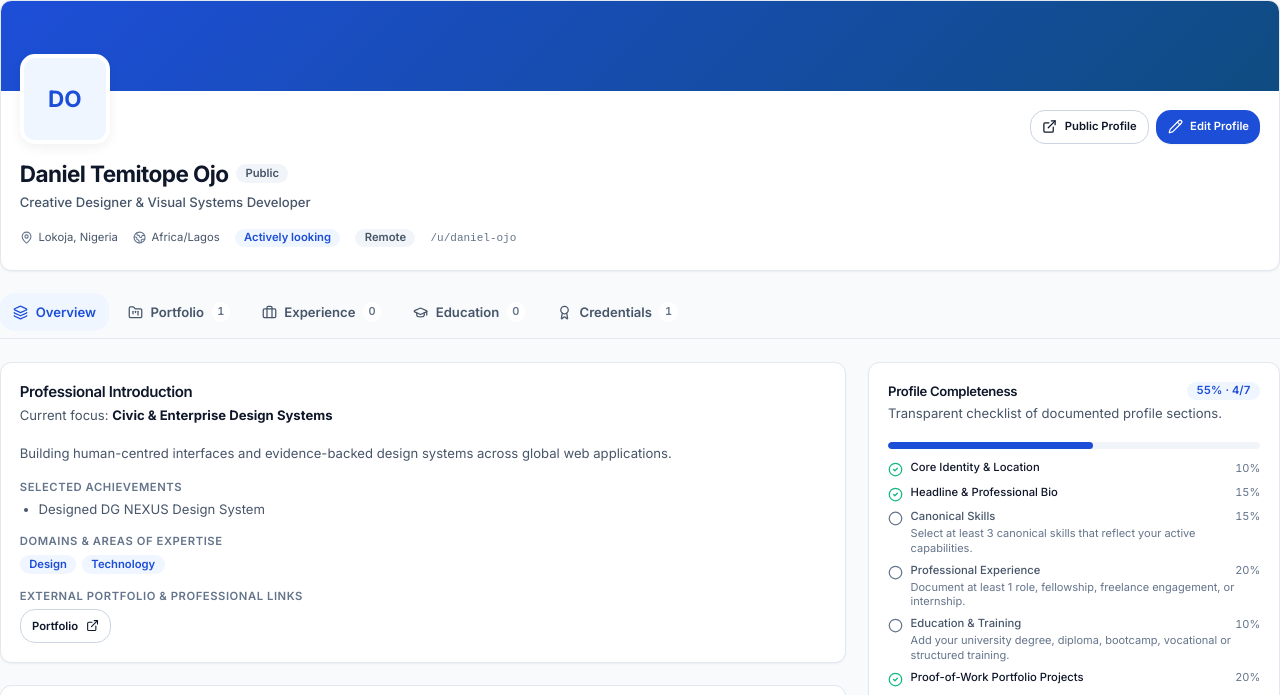
Scenario: M2 Proof-of-Work Profile & Portfolio Workspace UI › distinguishes portfolio-supported from self-reported skills and enforces transparent completeness & credential status
The width and height of the screenshot is (1280, 695).
Expected: the heading "Daniel Temitope Ojo" is shown, [20,158,229,188]
Note: Switch to Credentials tab and verify honest verification integrity guidance
Step 1. Click the tab "Credentials 1" → (617, 312), box [544,293,691,331]
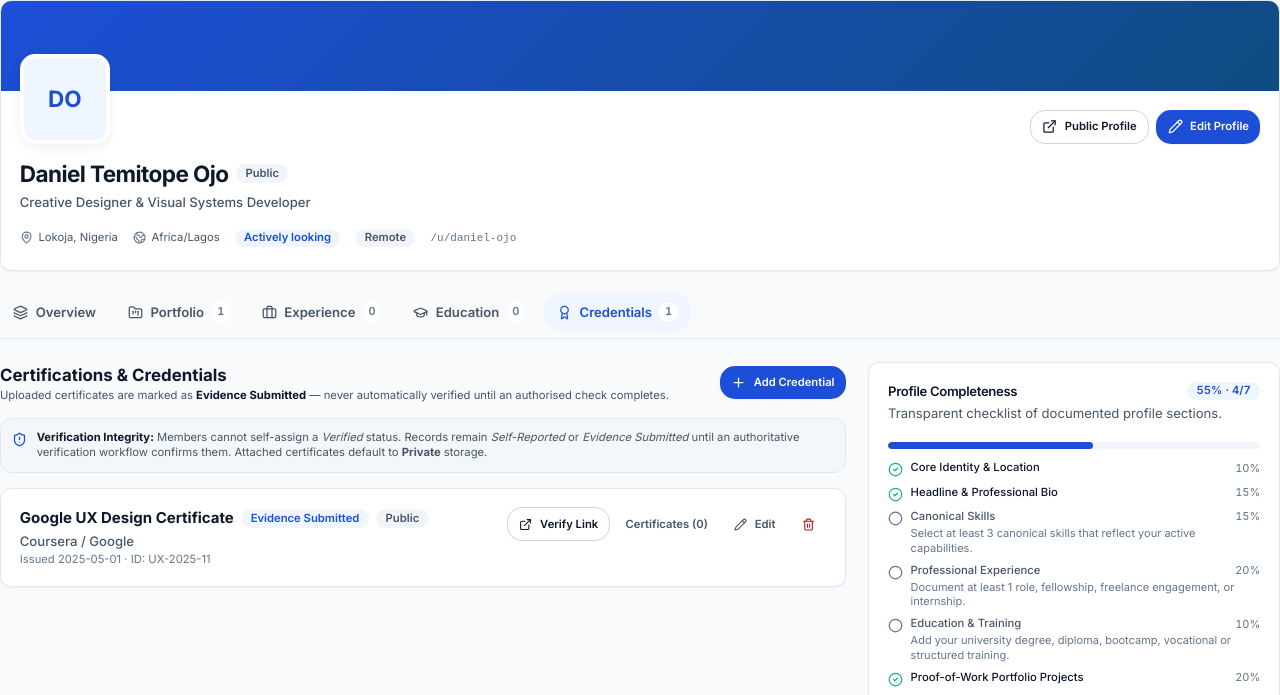
Expected: the heading "Google UX Design Certificate" is shown, [20,507,234,530]
Expected: the text "cannot self-assign" is shown, [154,430,318,444]
